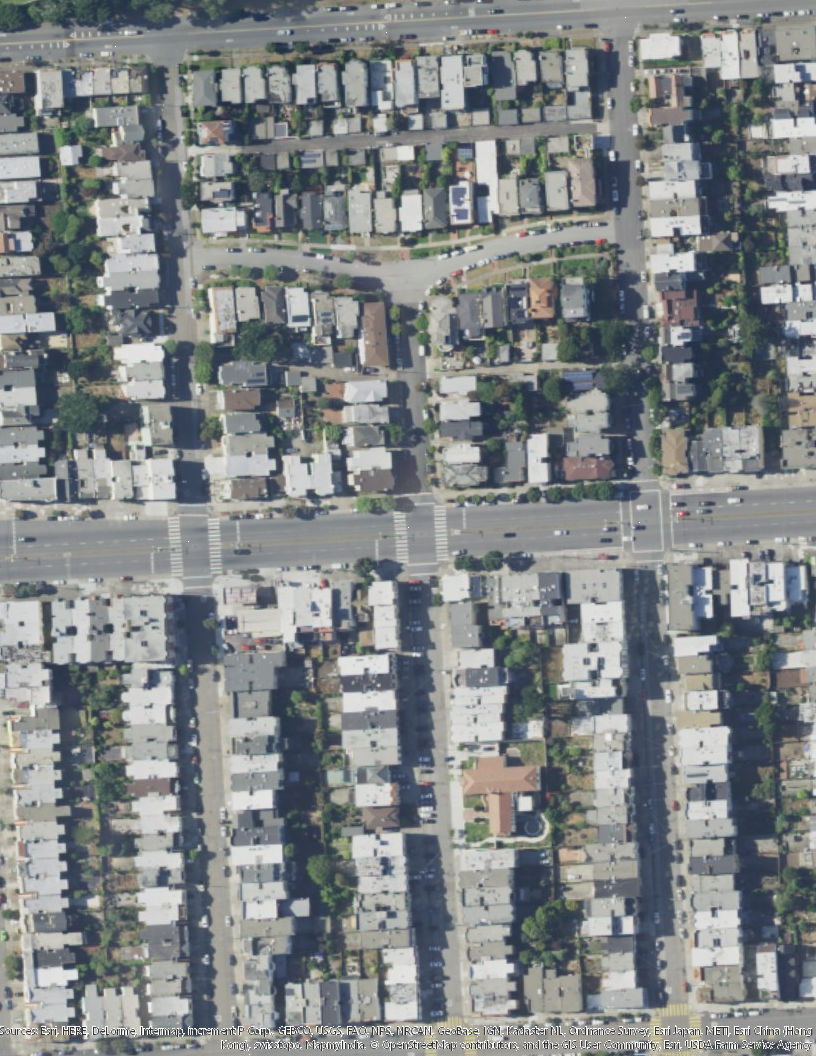zebracross: (203, 516, 225, 576), (166, 517, 184, 577), (391, 508, 410, 564), (431, 507, 450, 562), (664, 1003, 693, 1016), (436, 1017, 465, 1027), (690, 1015, 703, 1029)
